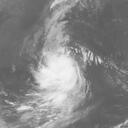cyclone: (29, 48, 84, 108)
